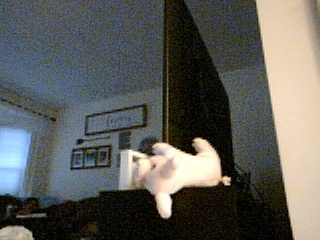piggy: (135, 135, 234, 221)
